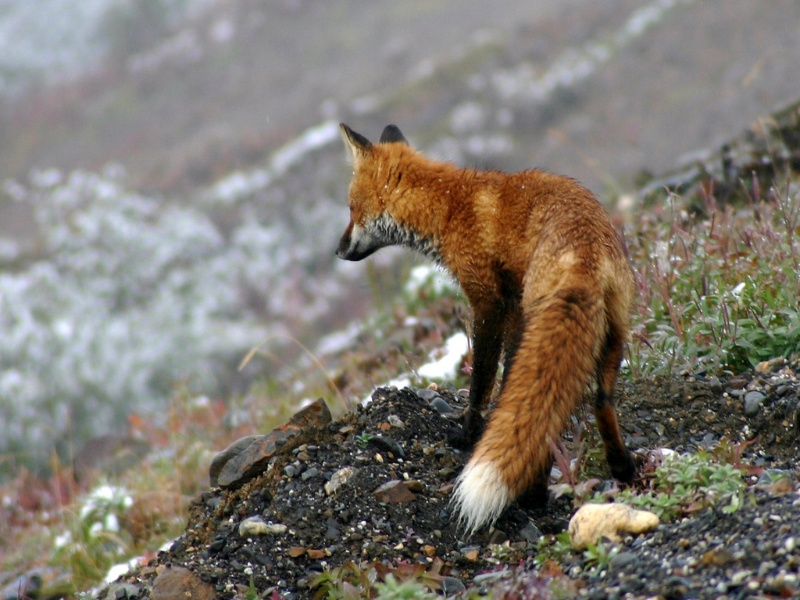fox: (329, 119, 652, 536)
